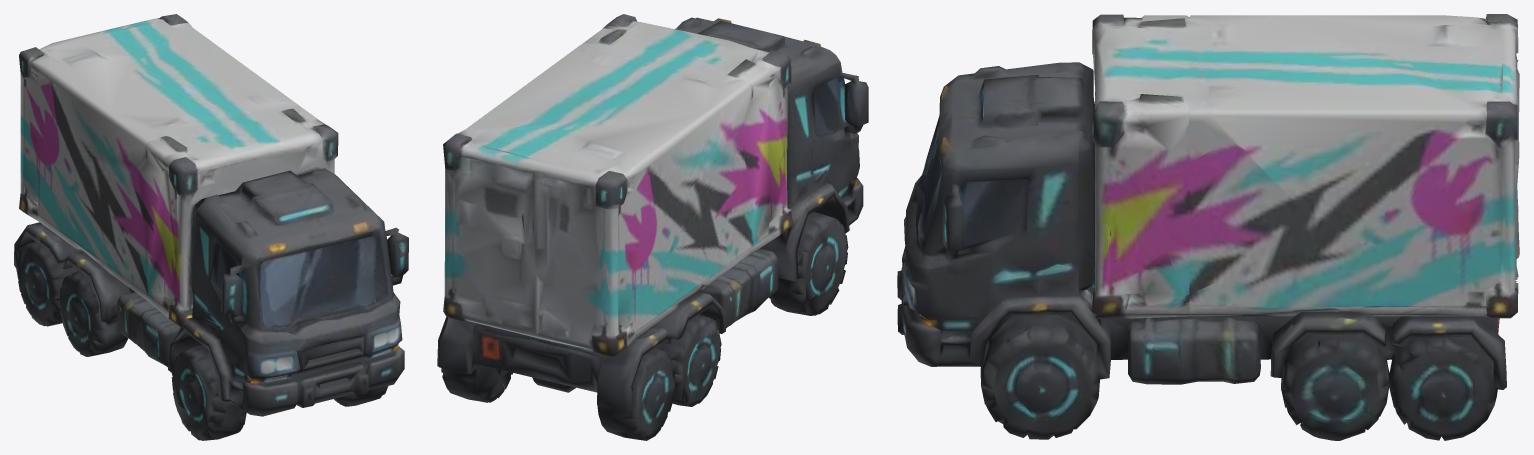
Rendered from box-truck.glb.
The picture shows the model from 3 angles, left to right: view 1: azimuth 30°, elevation 25°; view 2: azimuth 150°, elevation 25°; view 3: azimuth 270°, elevation 25°; orthographic projection. The views are drawn at different scales.
Parts seen in each view (by area): view 1: box-truck; view 2: box-truck; view 3: box-truck.
Part boxes in pixels (bbox=[...]): box-truck: bbox=[14, 14, 408, 440]; box-truck: bbox=[437, 14, 868, 440]; box-truck: bbox=[897, 14, 1519, 440].
Bounding box in the file's own units: 1.75 × 2.3 × 3.95.
1 material, 1 textured.
